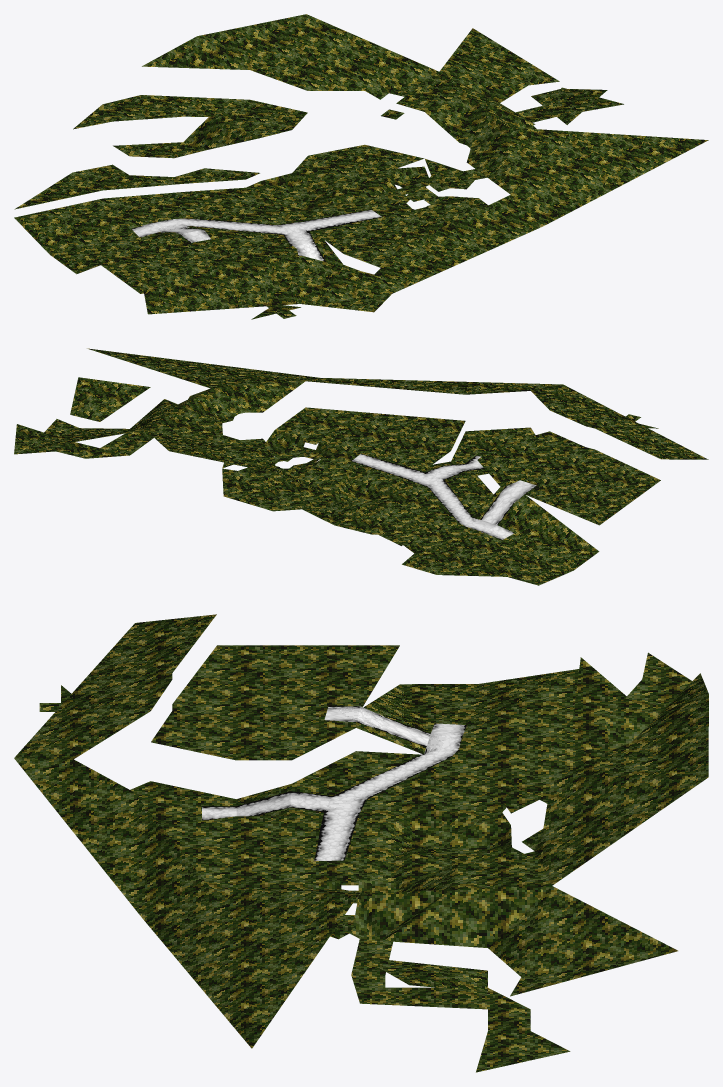
File: kokiri0-ground.obj
The picture shows the model from 3 angles, top to bottom: view 1: azimuth 30°, elevation 25°; view 2: azimuth 150°, elevation 25°; view 3: azimuth 270°, elevation 25°; orthographic projection. The views are drawn at different scales.
Visible parts, largest first — view 1: kokiri0-area; view 2: kokiri0-area; view 3: kokiri0-area.
Part boxes in pixels (x1,y1,x2,y2): kokiri0-area: (14,14,708,319); kokiri0-area: (14,348,708,585); kokiri0-area: (14,614,708,1072).
Size of the model in its own units: 4676 by 773 by 3248.
